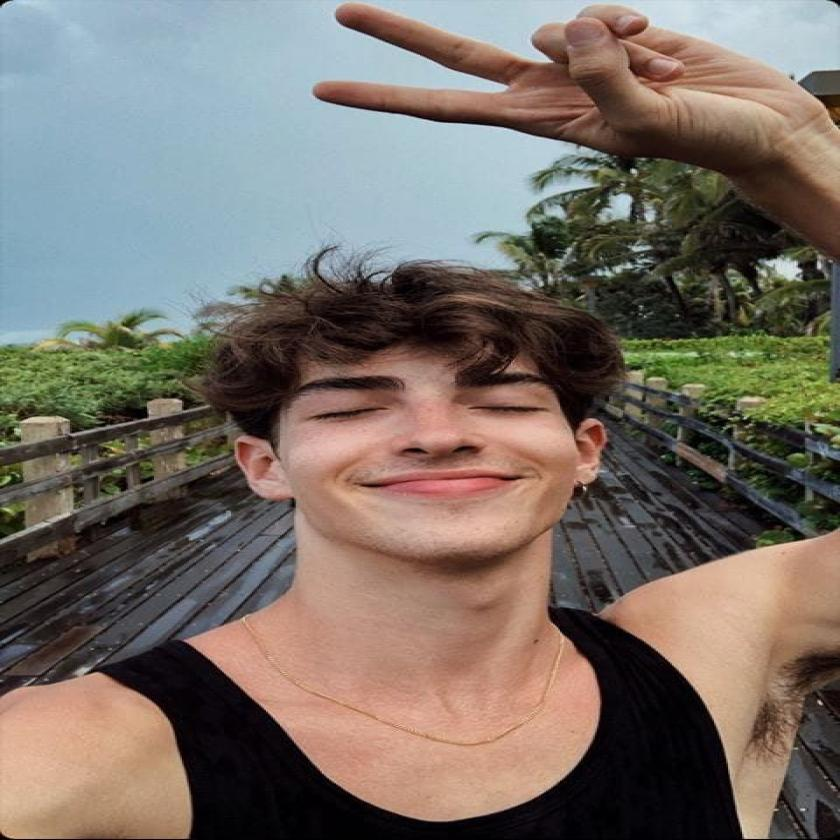Sin_casco: (206, 257, 619, 584)
